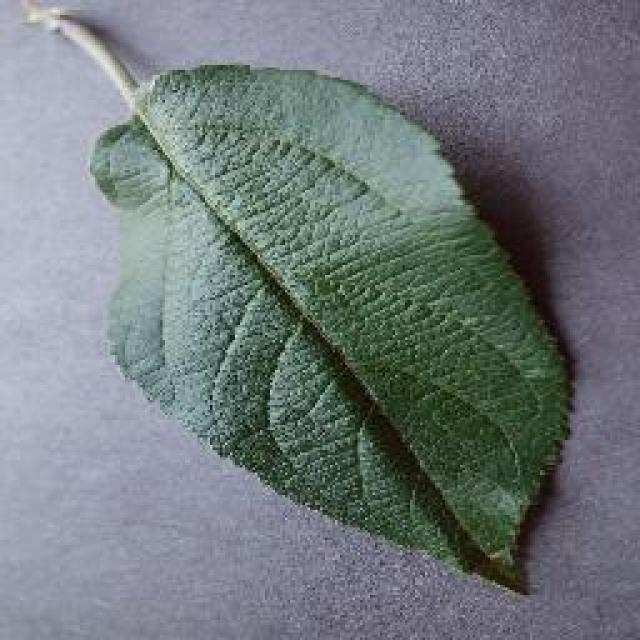apple scab disease: (18, 0, 578, 595)
